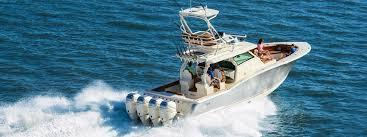fishing boat: (120, 3, 312, 129)
